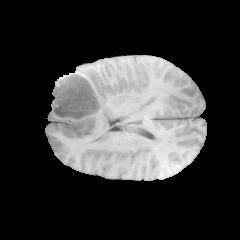glioma: (48, 67, 112, 140)
